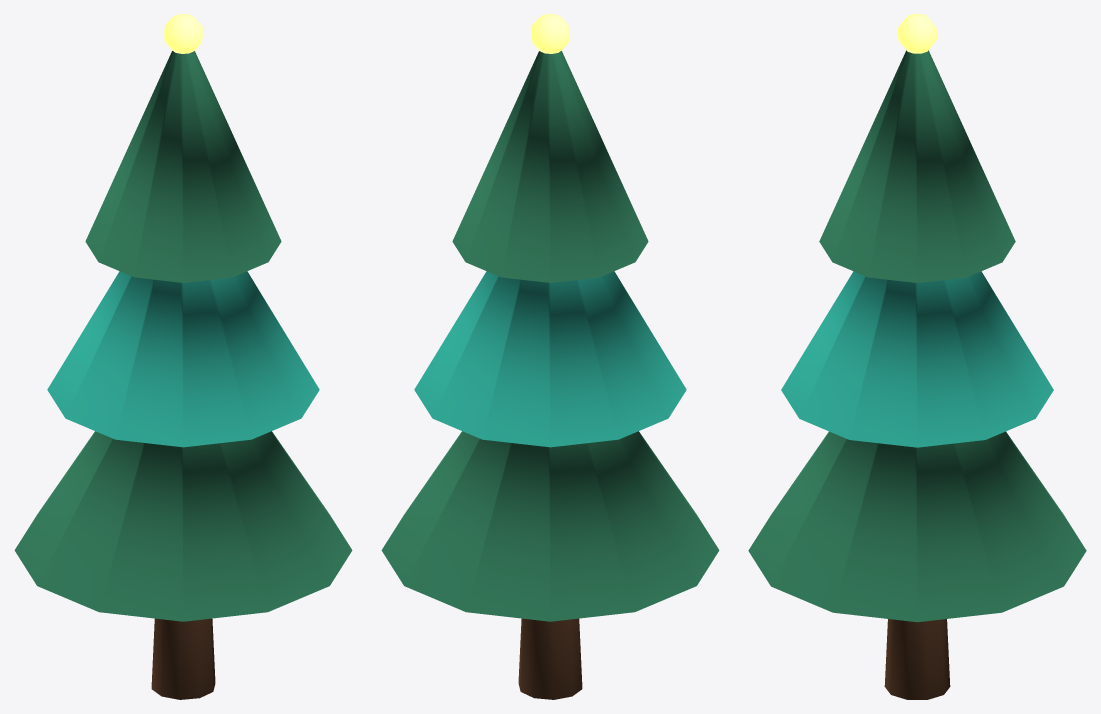
The model's file is tree_pine.glb.
3 renders of one model, left to right at view 1: azimuth 30°, elevation 25°; view 2: azimuth 150°, elevation 25°; view 3: azimuth 270°, elevation 25°, orthographic.
Parts seen in each view (by area): view 1: Pine.001; view 2: Pine.001; view 3: Pine.001.
Part boxes in pixels (bbox=[...]): Pine.001: bbox=[14, 14, 352, 699]; Pine.001: bbox=[381, 14, 719, 699]; Pine.001: bbox=[748, 14, 1086, 699].
Size of the model in its own units: 1.24 by 2.72 by 1.24.
